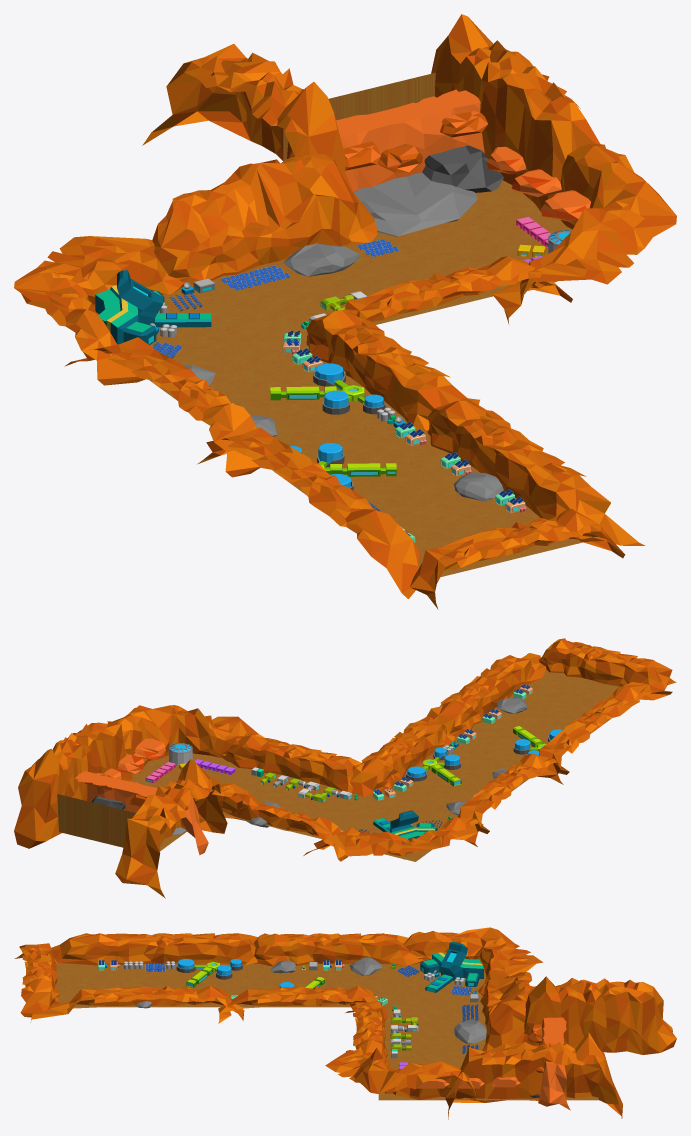
The model's file is floor1Mesh.glb.
3 renders of one model, top to bottom at view 1: azimuth 30°, elevation 25°; view 2: azimuth 150°, elevation 25°; view 3: azimuth 270°, elevation 25°, orthographic. The views are drawn at different scales.
Visible parts, largest first — view 1: 1stFloorMarsOnePiece; view 2: 1stFloorMarsOnePiece; view 3: 1stFloorMarsOnePiece.
Part boxes in pixels (box(x1,y1,x2,y2)): 1stFloorMarsOnePiece: box(14, 14, 676, 609); 1stFloorMarsOnePiece: box(14, 638, 676, 898); 1stFloorMarsOnePiece: box(14, 927, 676, 1119).
Bounding box in the file's own units: 725 × 170 × 1205.
Materials: 2 (2 with a texture image).
